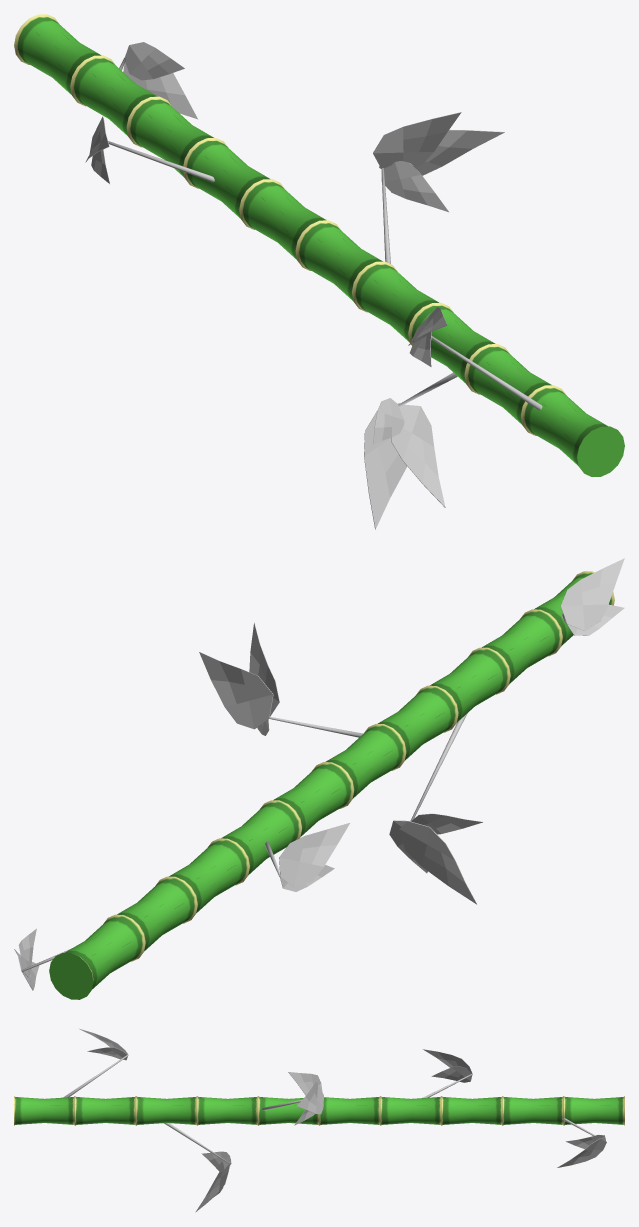
Rendered from bambook3.fbx.
3 renders of one model, top to bottom at view 1: azimuth 30°, elevation 25°; view 2: azimuth 150°, elevation 25°; view 3: azimuth 270°, elevation 25°, orthographic. The views are drawn at different scales.
Visible parts, largest first — view 1: bambook.001; view 2: bambook.001; view 3: bambook.001.
Boxes of the visible parts, x1,y1,x2,y2 form: bambook.001: (14,14,624,529); bambook.001: (14,558,624,999); bambook.001: (14,1028,624,1212).
Bounding box in the file's own units: 366 × 401 × 1275.
